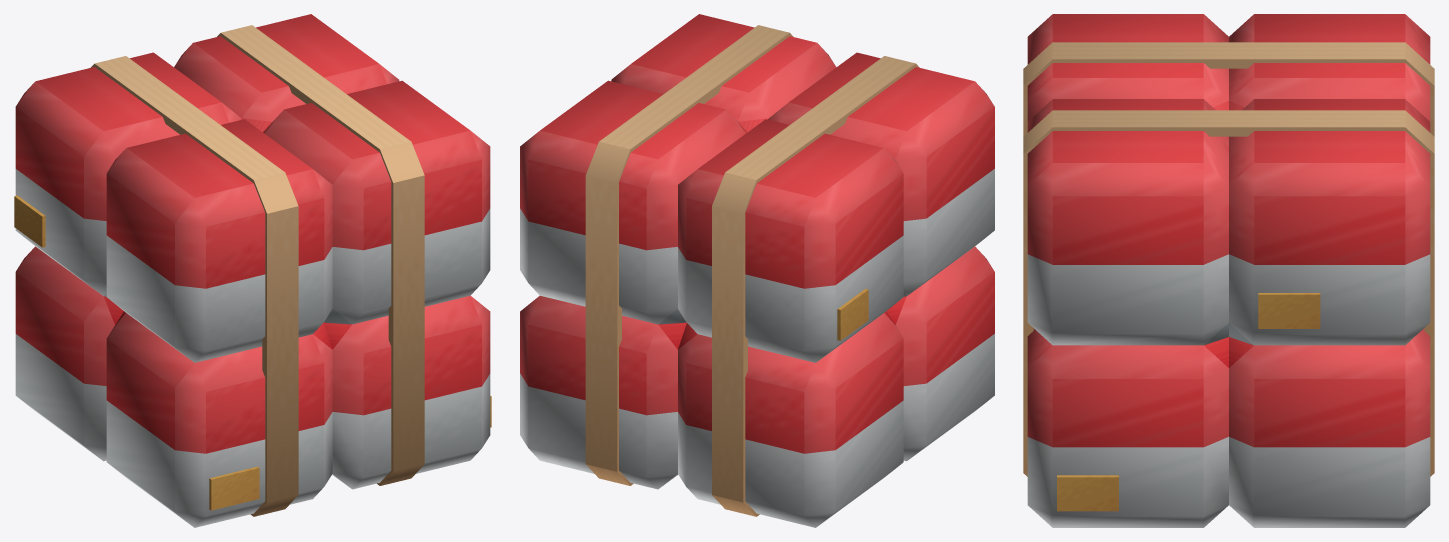
The model's file is cargo-a-stacked.glb.
3 views of the same model, side by side, from view 1: azimuth 30°, elevation 25°; view 2: azimuth 150°, elevation 25°; view 3: azimuth 270°, elevation 25° (orthographic). The views are drawn at different scales.
Parts seen in each view (by area): view 1: cargo_A_stacked; view 2: cargo_A_stacked; view 3: cargo_A_stacked.
Part boxes in pixels (x1,y1,x2,y2): cargo_A_stacked: (14, 14, 491, 527); cargo_A_stacked: (520, 14, 994, 527); cargo_A_stacked: (1023, 14, 1434, 527).
Bounding box in the file's own units: 1.02 × 1.02 × 1.02.
Materials: 1 (1 with a texture image).
